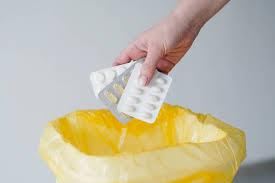pill_Strip: (117, 63, 171, 122), (98, 64, 133, 122), (98, 67, 132, 122), (90, 62, 133, 97), (105, 91, 117, 103), (94, 72, 105, 82), (104, 70, 116, 79), (113, 84, 123, 94), (128, 96, 140, 104), (117, 65, 126, 74), (148, 95, 159, 102), (144, 103, 155, 109), (132, 88, 142, 94), (141, 112, 151, 118), (151, 86, 161, 92), (155, 78, 165, 83), (122, 113, 131, 118), (127, 106, 134, 111), (123, 76, 128, 82)
